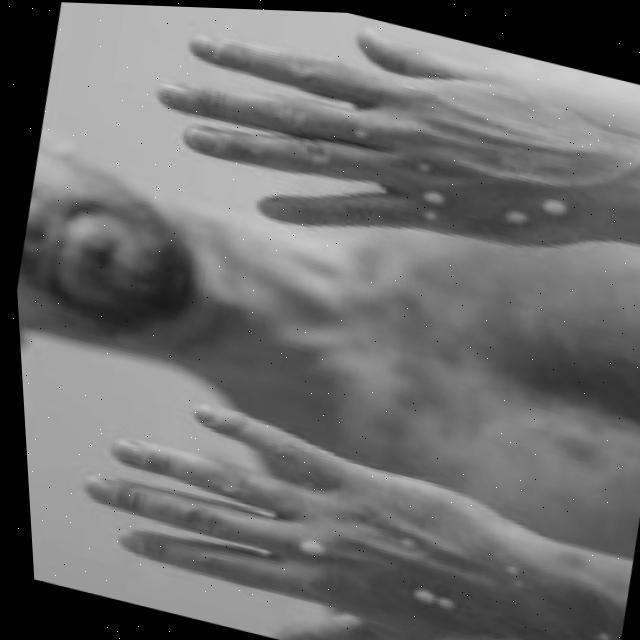Eczema: (300, 527, 628, 640), (340, 257, 479, 446), (392, 133, 593, 242)
